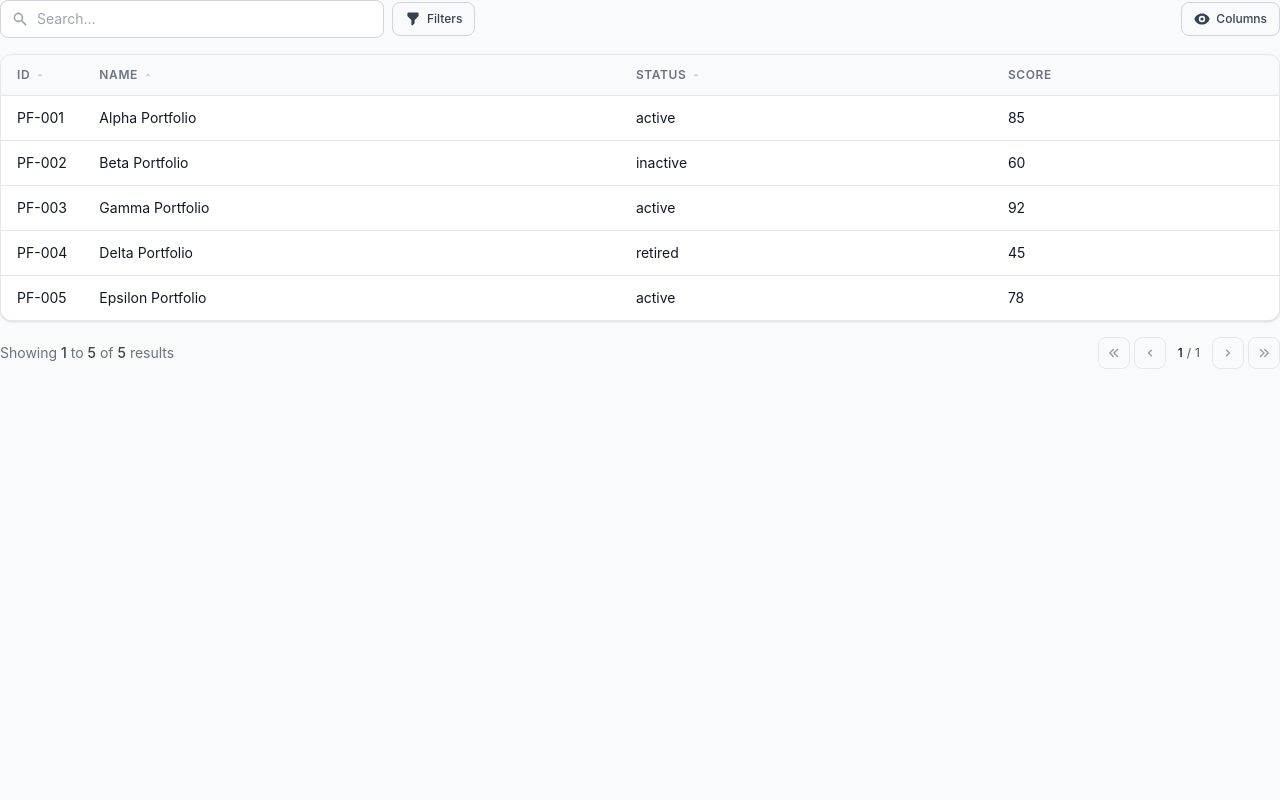
DataTable › column visibility toggle › opens column visibility dropdown when toggle button is clicked
Click the button with aria-label "Toggle column visibility": [1231, 19] box [1181,2,1279,36]
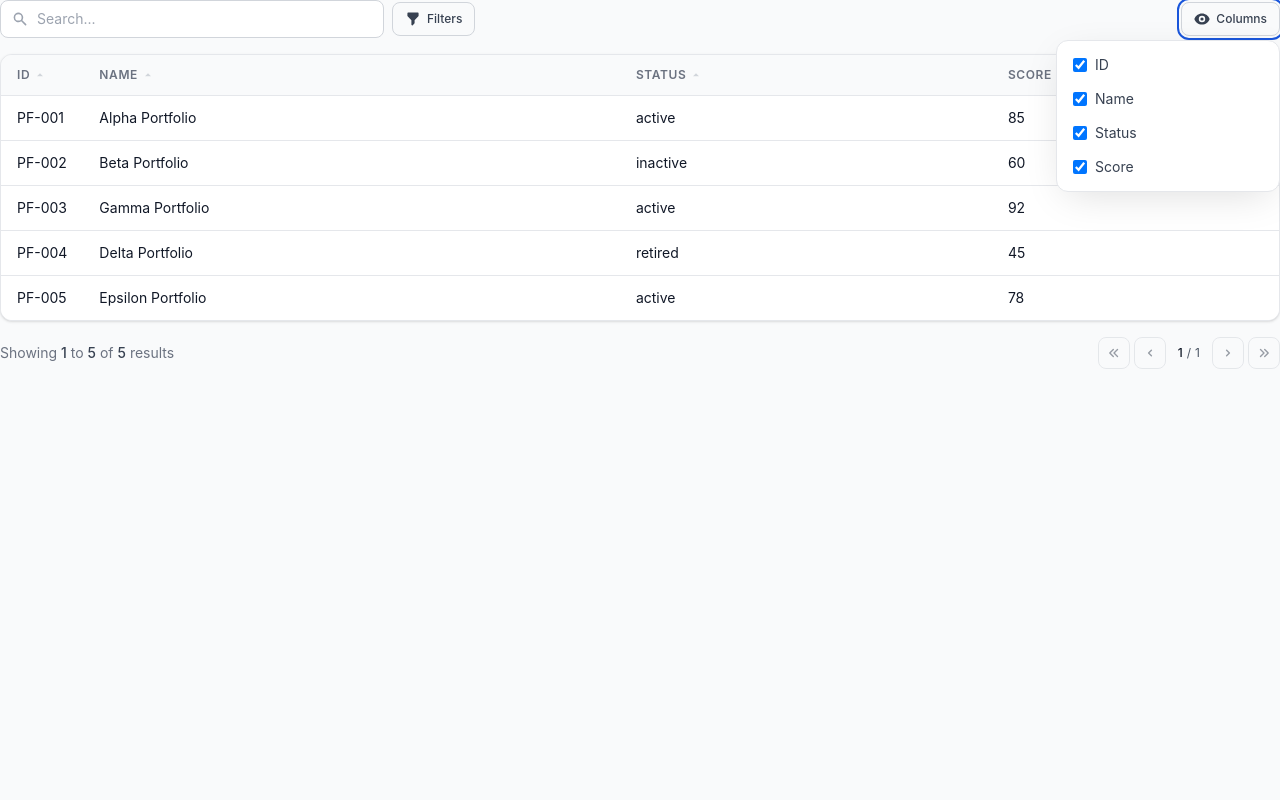
Expected: the dialog named "Column visibility" is shown, [1056,40,1279,192]
